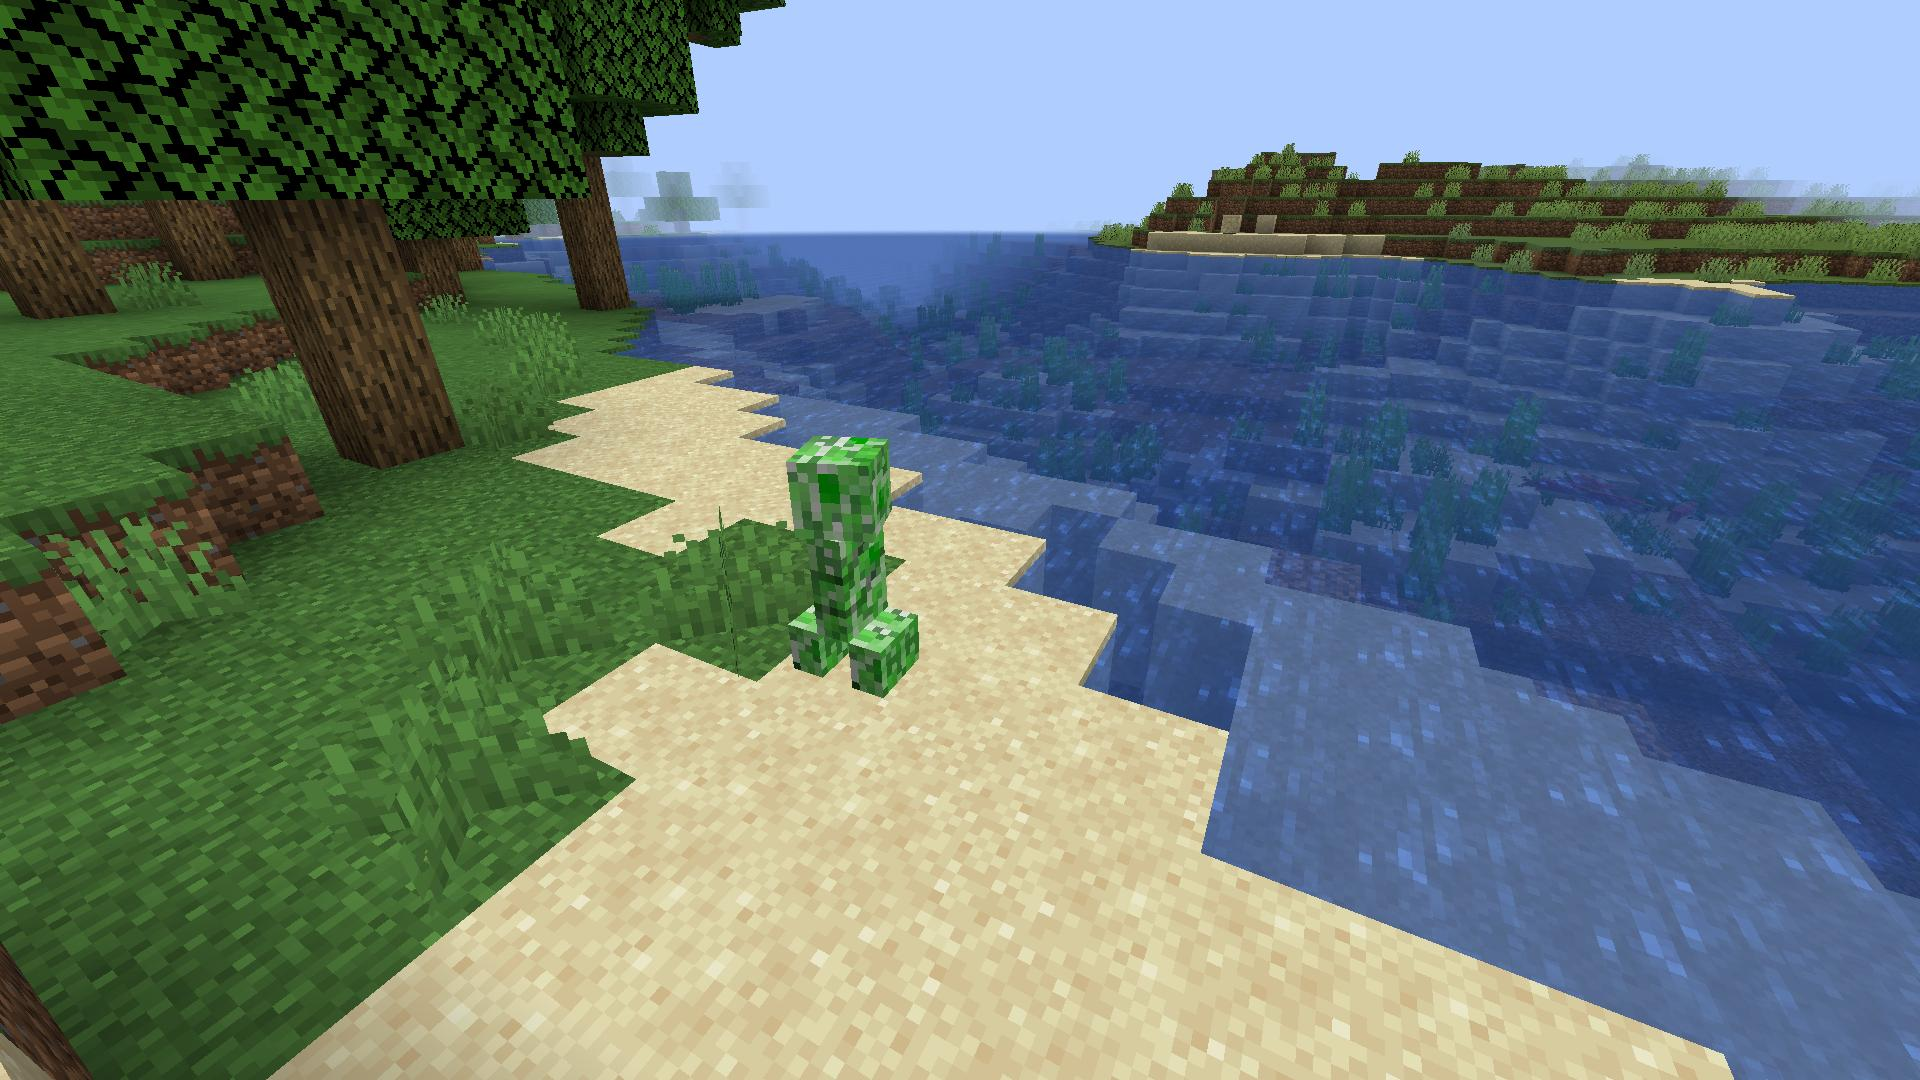creeper: (766, 422, 935, 713)
